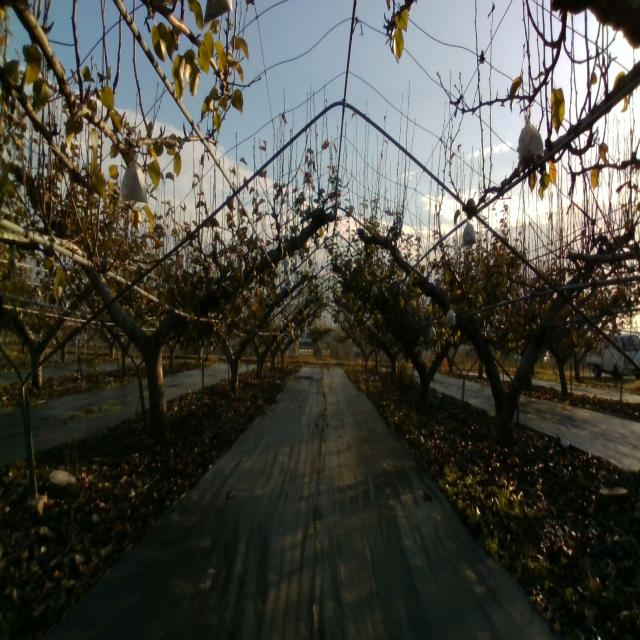pearbags: (518, 114, 545, 162), (118, 163, 148, 205), (461, 218, 476, 247), (444, 303, 456, 326)
